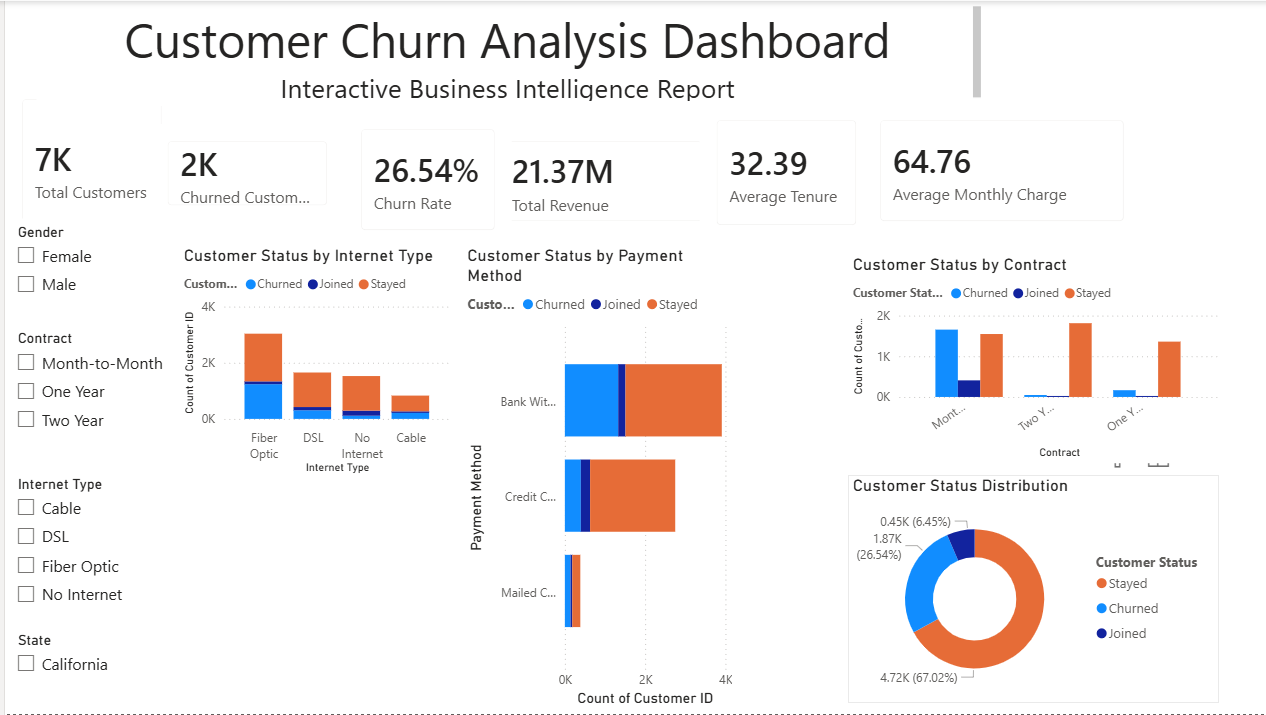

What the dashboard file says about the page in this screenshot:
{"tool":"powerbi","page":{"name":"Page 1","canvas":[1280,720],"ordinal":0},"visuals":[{"type":"cardVisual","fields":{"Data":["Cleaned_Customer_Churn.Total Customers"]},"box":[0,81.8,175.6,174.1],"z":0},{"type":"cardVisual","fields":{"Data":["Cleaned_Customer_Churn.Churned Customers"]},"box":[146.9,124.2,195.3,99.9],"z":1000},{"type":"cardVisual","title":"Total revenue","fields":{"Data":["Cleaned_Customer_Churn.Total Revenue Measure"]},"box":[481.5,124.2,239.2,115.1],"z":2000},{"type":"cardVisual","fields":{"Data":["Cleaned_Customer_Churn.Average Tenure"]},"box":[701.1,103,175.6,140.8],"z":3000},{"type":"cardVisual","fields":{"Data":["Cleaned_Customer_Churn.Average Monthly Charge"]},"box":[866.1,103,280.1,136.3],"z":4000},{"type":"donutChart","title":"Customer Status Distribution","fields":{"Category":["Cleaned_Customer_Churn.Customer Status"],"Y":["CountNonNull(Cleaned_Customer_Churn.Customer ID)"]},"box":[851,478.5,374,230.2],"z":5000},{"type":"clusteredColumnChart","title":"Customer Status by Contract","fields":{"Category":["Cleaned_Customer_Churn.Contract"],"Y":["CountNonNull(Cleaned_Customer_Churn.Customer ID)"],"Series":["Cleaned_Customer_Churn.Customer Status"]},"box":[851,255.9,380.1,210.5],"z":6000},{"type":"columnChart","title":"Customer Status by Internet Type","fields":{"Category":["Cleaned_Customer_Churn.Internet Type"],"Y":["CountNonNull(Cleaned_Customer_Churn.Customer ID)"],"Series":["Cleaned_Customer_Churn.Customer Status"]},"box":[175.6,246.8,278.6,234.7],"z":7000},{"type":"barChart","title":"Customer Status by Payment Method","fields":{"Category":["Cleaned_Customer_Churn.Payment Method"],"Y":["CountNonNull(Cleaned_Customer_Churn.Customer ID)"],"Series":["Cleaned_Customer_Churn.Customer Status"]},"box":[461.8,246.8,277.1,469.4],"z":8000},{"type":"textbox","box":[31.8,0,958.5,106],"z":9000},{"type":"cardVisual","fields":{"Data":["Cleaned_Customer_Churn.Churn Rate"]},"box":[342.2,112.1,169.6,136.3],"z":10000},{"type":"slicer","fields":{"Values":["Cleaned_Customer_Churn.Gender"]},"box":[0,219.6,175.6,87.8],"z":11000},{"type":"slicer","fields":{"Values":["Cleaned_Customer_Churn.Internet Type"]},"box":[0,473.9,175.6,157.5],"z":12000},{"type":"slicer","fields":{"Values":["Cleaned_Customer_Churn.State"]},"box":[0,631.4,175.6,77.2],"z":13000},{"type":"slicer","fields":{"Values":["Cleaned_Customer_Churn.Contract"]},"box":[0,327.1,175.6,130.2],"z":14000}]}

Visuals, with their boxes in screenshot pixels (x1, y1, x2, y2), scaled from the page's 1280x720 canvas onto the 1266x715 screenshot:
cardVisual - Cleaned_Customer_Churn.Total Customers: bbox=(0, 81, 174, 254)
cardVisual - Cleaned_Customer_Churn.Churned Customers: bbox=(145, 123, 338, 223)
"Total revenue" cardVisual: bbox=(476, 123, 713, 238)
cardVisual - Cleaned_Customer_Churn.Average Tenure: bbox=(693, 102, 867, 242)
cardVisual - Cleaned_Customer_Churn.Average Monthly Charge: bbox=(857, 102, 1134, 238)
"Customer Status Distribution" donutChart: bbox=(842, 475, 1212, 704)
"Customer Status by Contract" clusteredColumnChart: bbox=(842, 254, 1218, 463)
"Customer Status by Internet Type" columnChart: bbox=(174, 245, 449, 478)
"Customer Status by Payment Method" barChart: bbox=(457, 245, 731, 711)
textbox: bbox=(31, 0, 979, 105)
cardVisual - Cleaned_Customer_Churn.Churn Rate: bbox=(338, 111, 506, 247)
slicer - Cleaned_Customer_Churn.Gender: bbox=(0, 218, 174, 305)
slicer - Cleaned_Customer_Churn.Internet Type: bbox=(0, 471, 174, 627)
slicer - Cleaned_Customer_Churn.State: bbox=(0, 627, 174, 704)
slicer - Cleaned_Customer_Churn.Contract: bbox=(0, 325, 174, 454)
